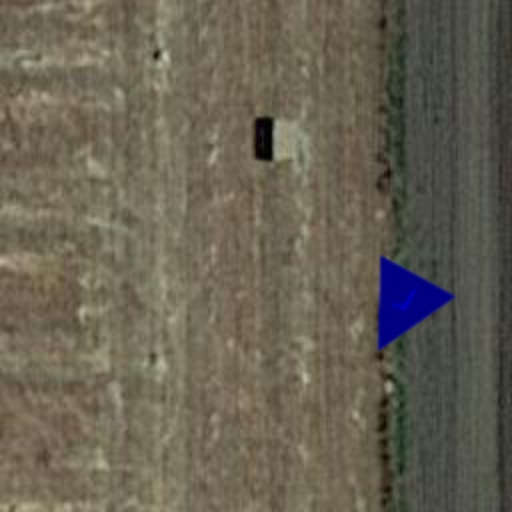triangle: (338, 254, 458, 374)
